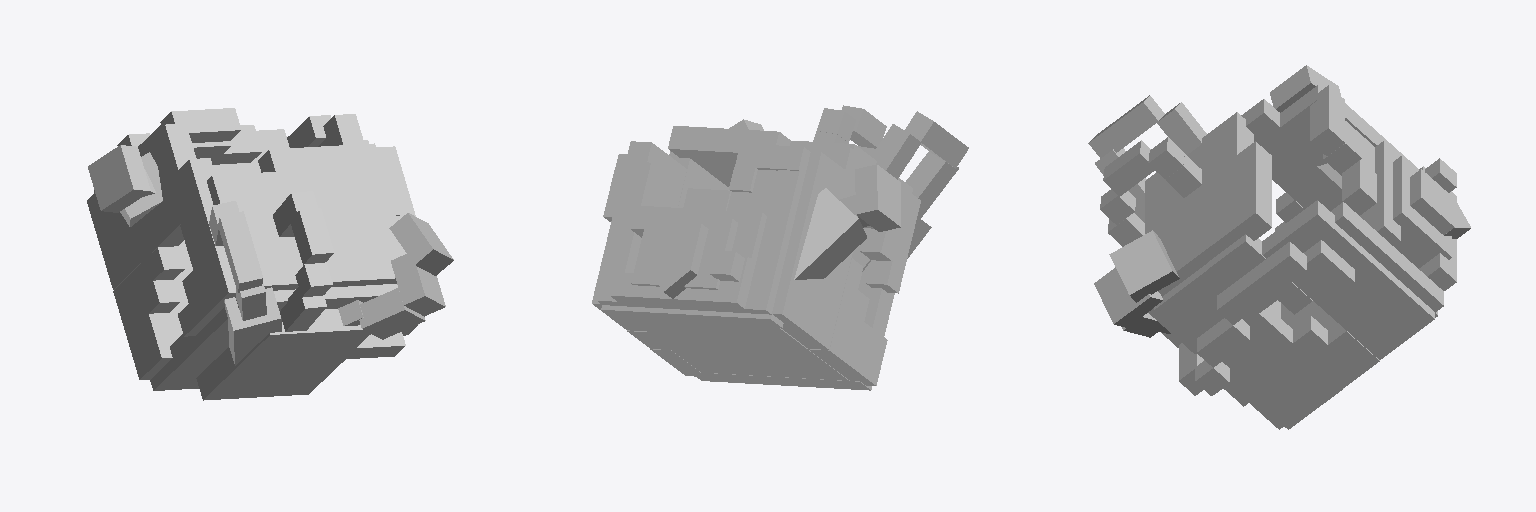
The model's file is x01_helmet_broken.obj.
3 views of the same model, side by side, from view 1: azimuth 30°, elevation 25°; view 2: azimuth 150°, elevation 25°; view 3: azimuth 270°, elevation 25° (orthographic).
Visible parts, largest first — view 1: Head_Head.002; view 2: Head_Head.002; view 3: Head_Head.002.
Part boxes in pixels (left/top/right/bottom): Head_Head.002: left=87, top=108, right=453, bottom=400; Head_Head.002: left=592, top=105, right=968, bottom=390; Head_Head.002: left=1088, top=65, right=1470, bottom=429.
Bounding box in the file's own units: 0.8371 × 0.7847 × 0.9634.